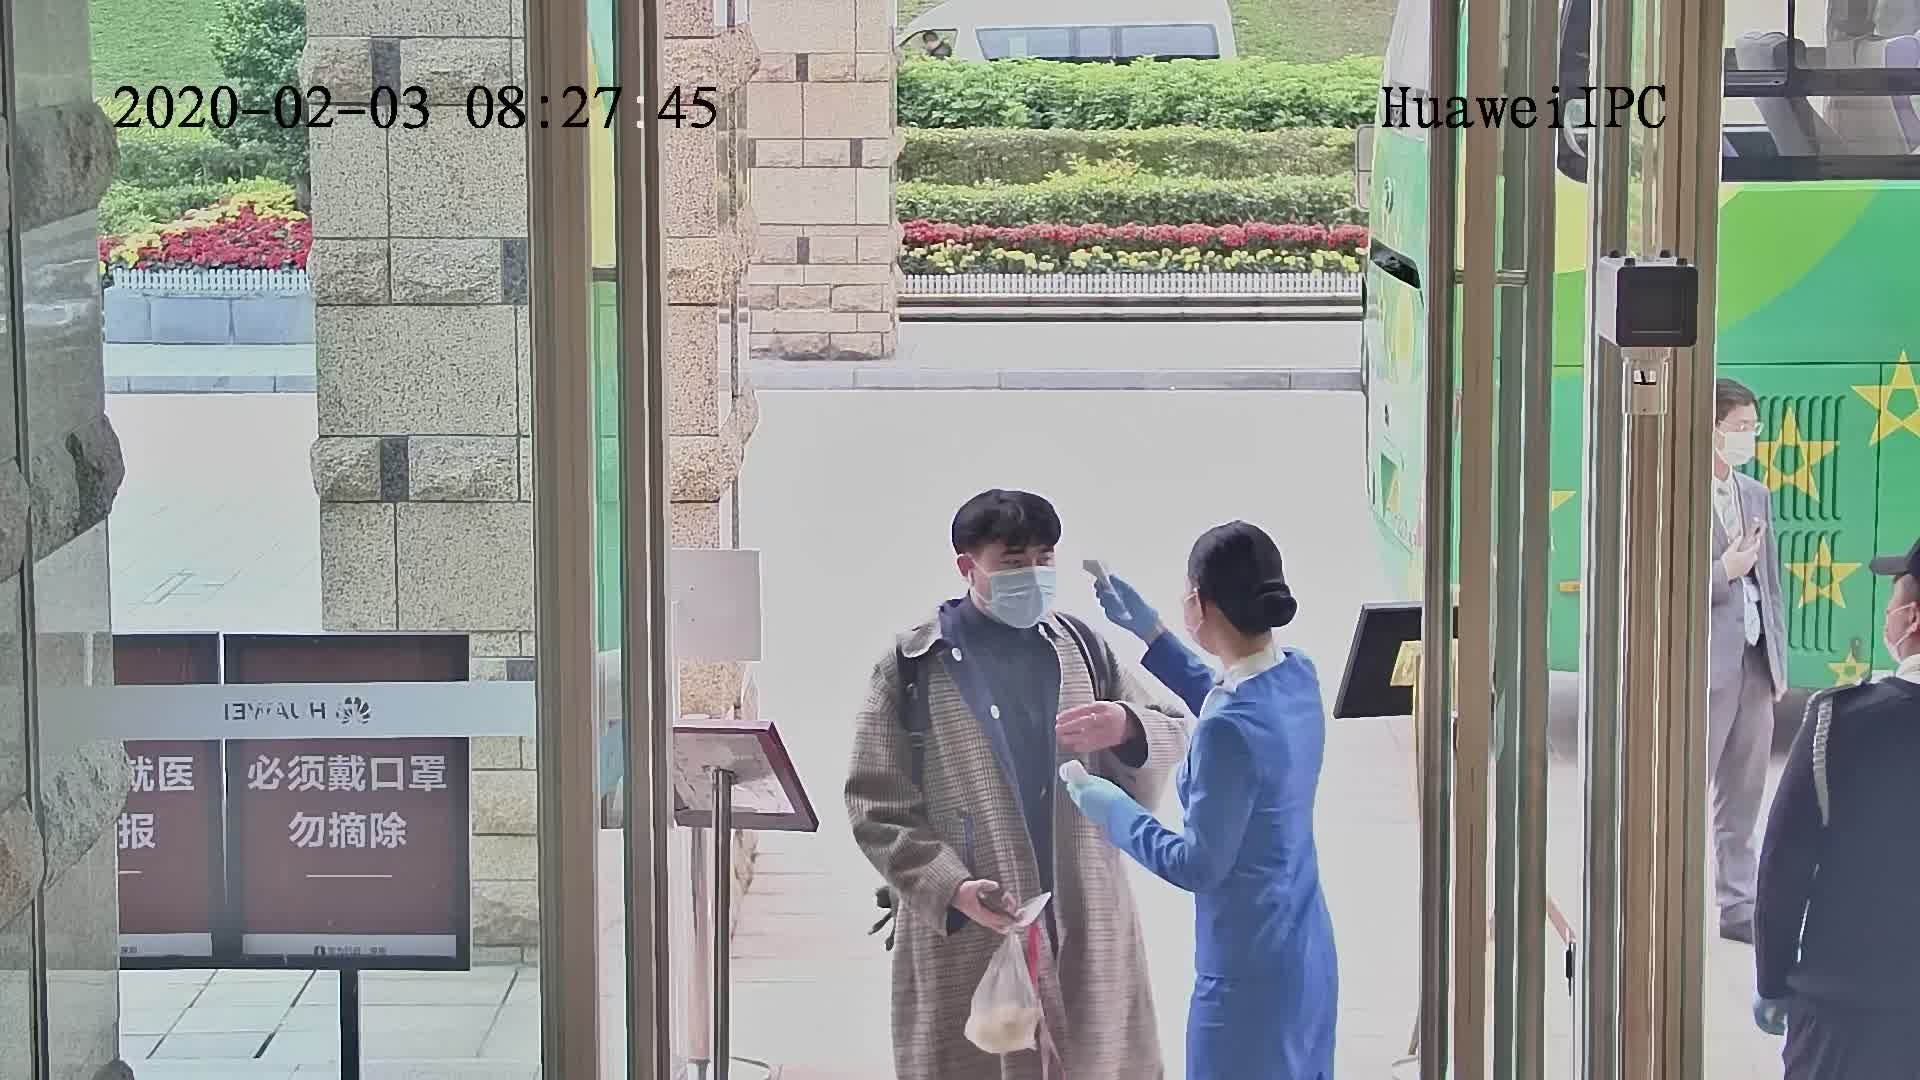face: (980, 549, 1051, 629), (1718, 402, 1758, 473)
mask: (983, 560, 1049, 629), (1720, 422, 1760, 471)
person: (866, 481, 1104, 706), (1166, 512, 1324, 766), (1798, 519, 1920, 783), (1709, 378, 1767, 510)
